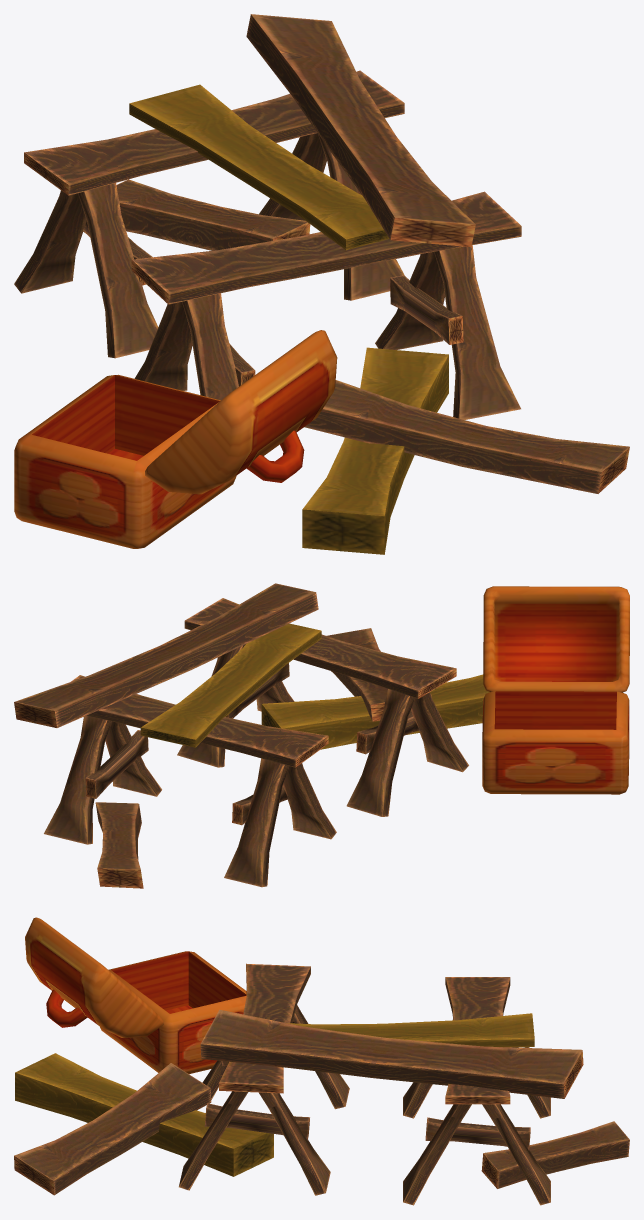
Rendered from INST_HTOWN_WORKAREA.fbx.
3 renders of one model, top to bottom at view 1: azimuth 30°, elevation 25°; view 2: azimuth 150°, elevation 25°; view 3: azimuth 270°, elevation 25°, orthographic. The views are drawn at different scales.
Parts seen in each view (by area): view 1: INST_HTOWN_WORKAREA; view 2: INST_HTOWN_WORKAREA; view 3: INST_HTOWN_WORKAREA.
Part boxes in pixels (box(x1,y1,x2,y2)): INST_HTOWN_WORKAREA: box(14, 14, 629, 554); INST_HTOWN_WORKAREA: box(14, 583, 629, 888); INST_HTOWN_WORKAREA: box(14, 917, 629, 1205).
Bounding box in the file's own units: 14923 × 4969 × 19051.
4 materials, 4 textured.
